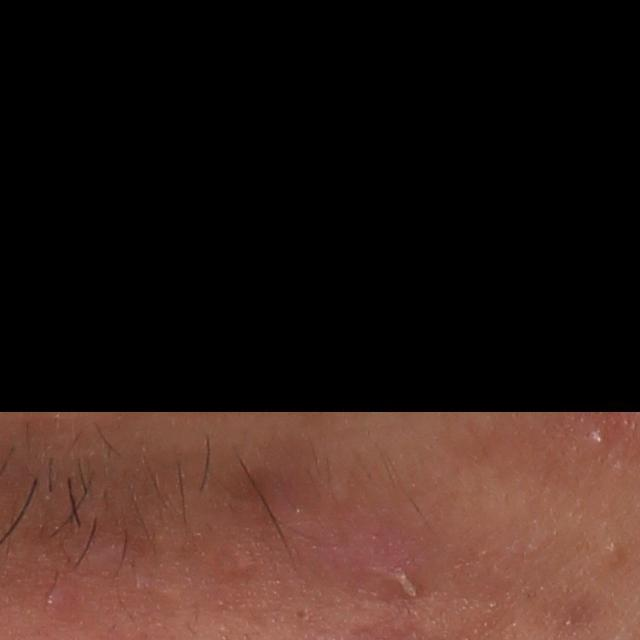comedo: (601, 543, 626, 569), (589, 429, 607, 451)
